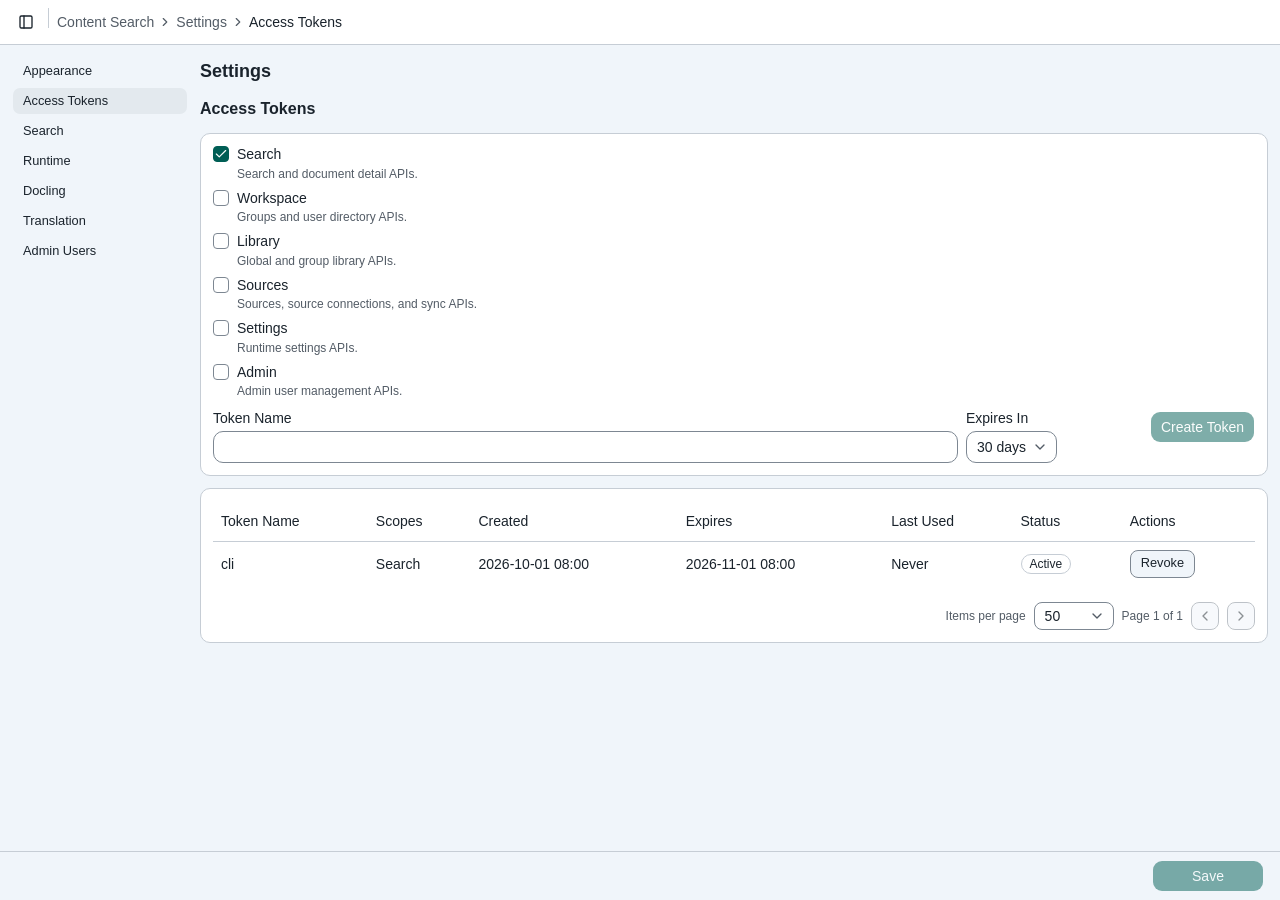
access tokens settings › requires a name before a token can be created
This screenshot has width=1280, height=900.
Expected: the text "cli" is shown, [213,541,368,586]
Expected: the button with test id "personal-access-token-create" is disabled, [1150,411,1255,443]
Type "deploy" into the field with test id "personal-access-token-name" at (586, 447), box [213,431,958,463]
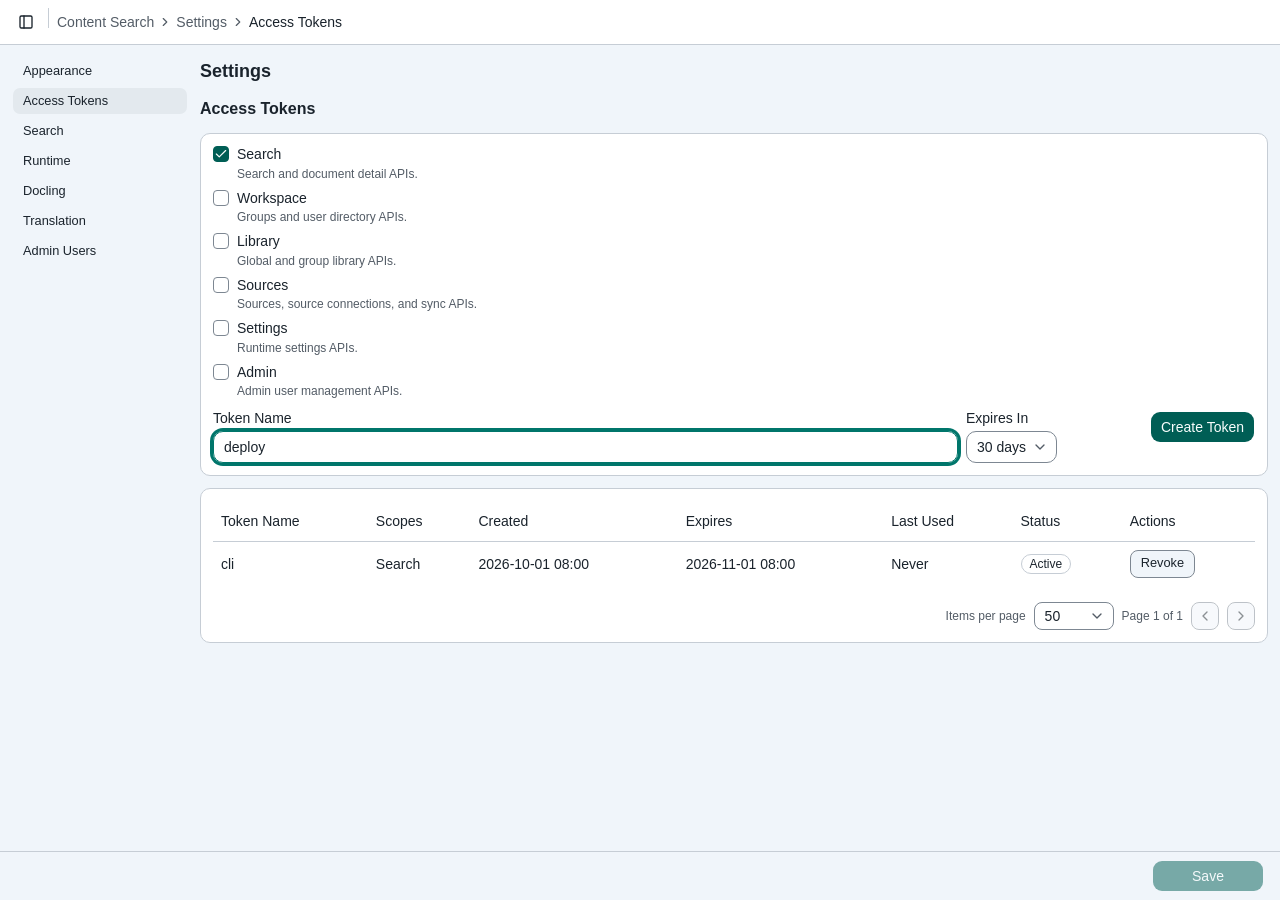
Now the button with test id "personal-access-token-create" is enabled, box [1150,411,1255,443]
Click the checkbox with test id "pat-scope-search" at (221, 154), box [213,146,229,162]
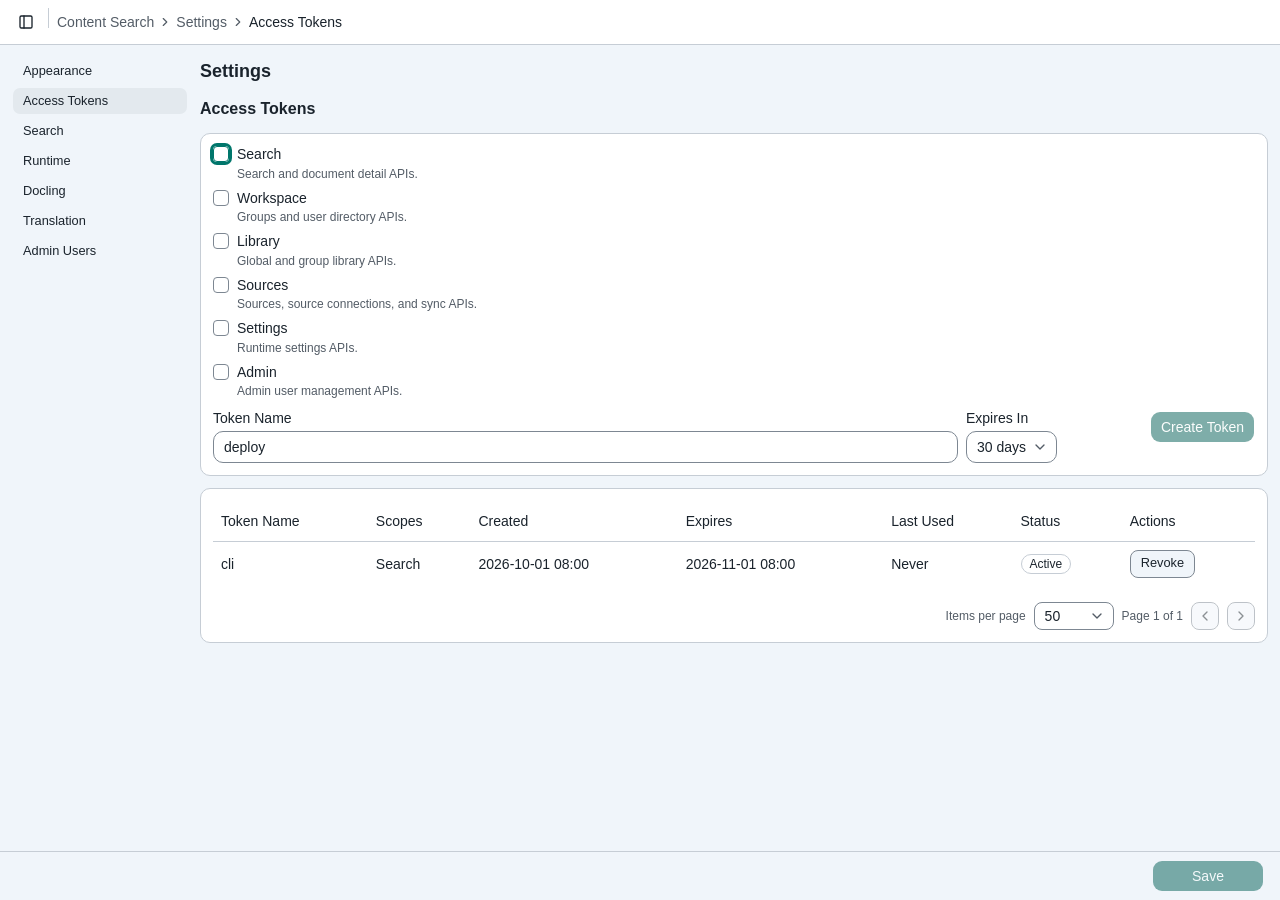
Now the button with test id "personal-access-token-create" is disabled, box [1150,411,1255,443]
